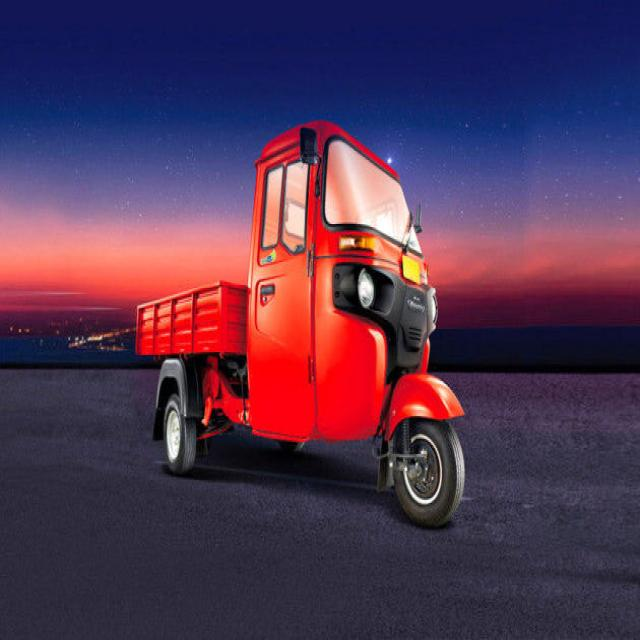autorickshaw: (136, 122, 464, 526)
